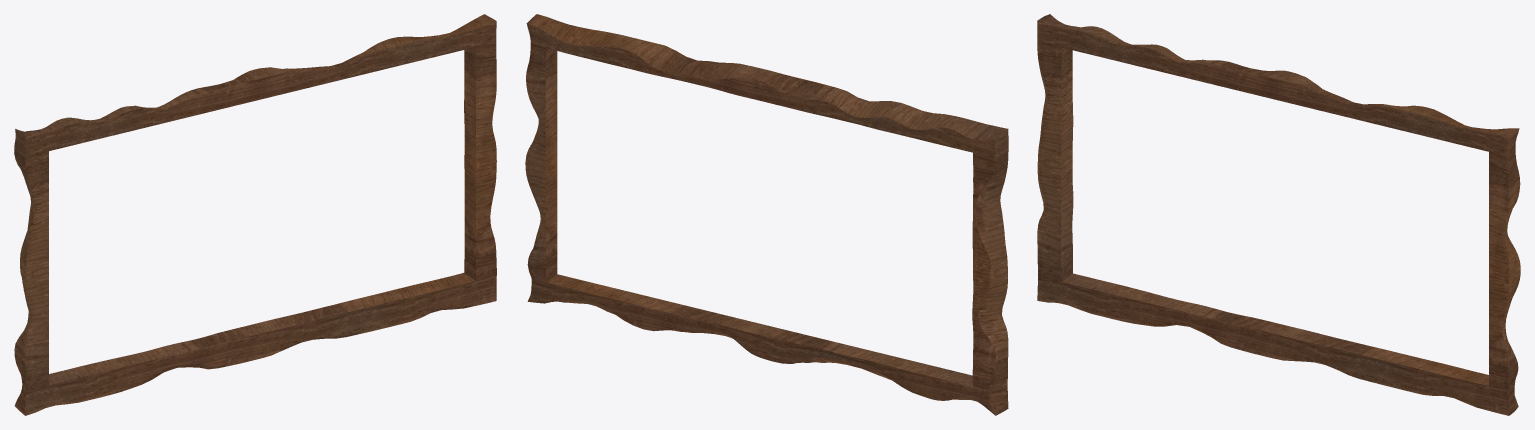
The model's file is frame3.glb.
3 renders of one model, left to right at view 1: azimuth 30°, elevation 25°; view 2: azimuth 150°, elevation 25°; view 3: azimuth 330°, elevation 25°, orthographic.
Parts seen in each view (by area): view 1: Frame3; view 2: Frame3; view 3: Frame3.
Boxes of the visible parts, left/top/right/bottom form: Frame3: left=14, top=14, right=496, bottom=415; Frame3: left=525, top=14, right=1008, bottom=415; Frame3: left=1037, top=14, right=1520, bottom=415.
Size of the model in its own units: 2.96 by 1.68 by 0.1374.
Materials: 1 (1 with a texture image).
